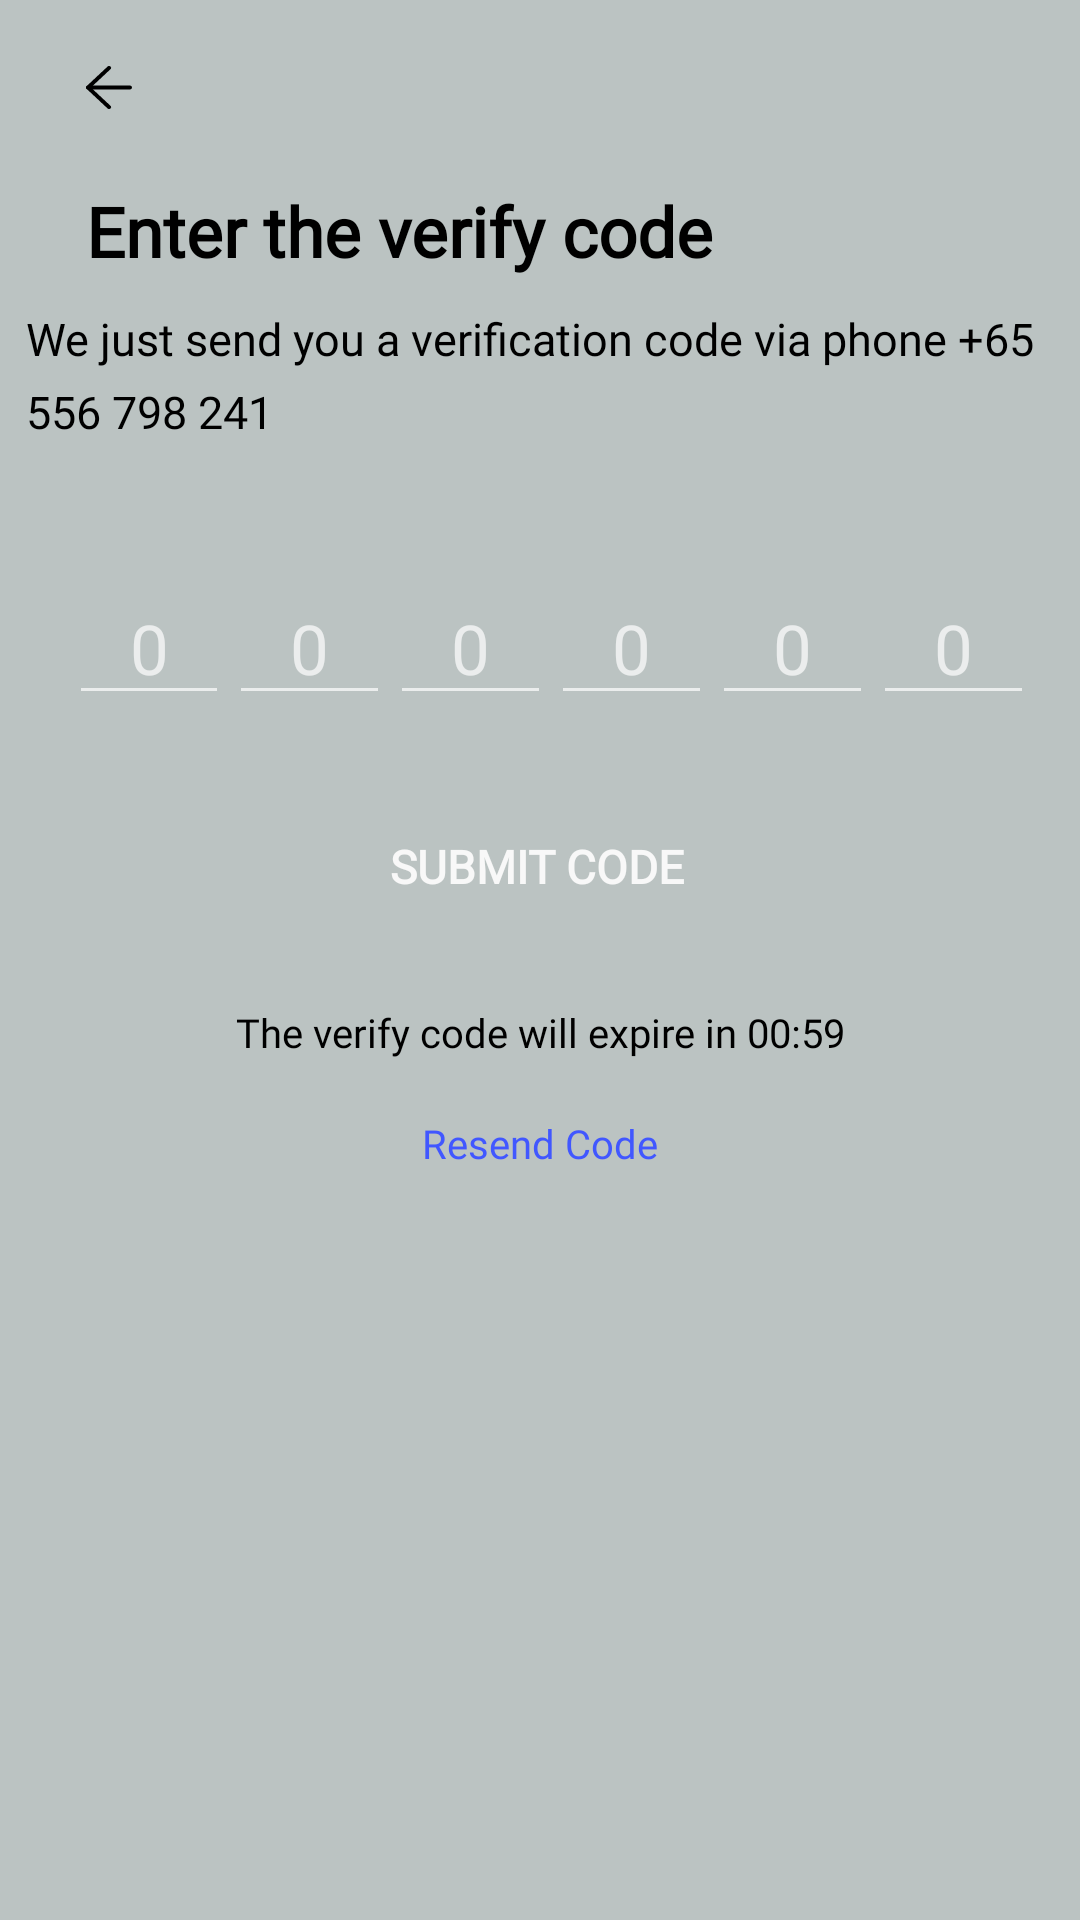

Named icons in this screenshot (1080x1920) and their bounding boxes, (x1, y1, x2, y2):
back arrow: (86, 66, 132, 109)
